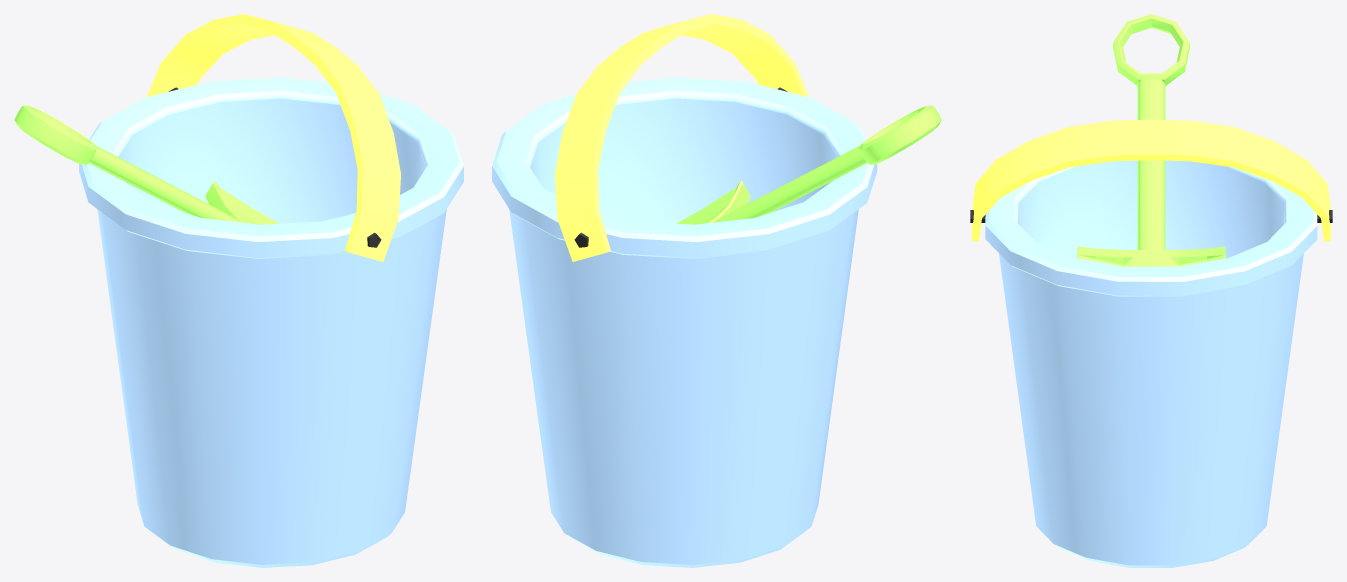
Rendered from BucketNShovel.fbx.
The picture shows the model from 3 angles, left to right: view 1: azimuth 30°, elevation 25°; view 2: azimuth 150°, elevation 25°; view 3: azimuth 270°, elevation 25°; orthographic projection. The views are drawn at different scales.
Visible parts, largest first — view 1: pail, shovel; view 2: pail, shovel; view 3: pail, shovel.
Boxes of the visible parts, x1,y1,x2,y2 form: pail: (79,14,463,567); shovel: (14,105,279,224); pail: (492,14,877,567); shovel: (677,105,941,224); pail: (970,119,1332,567); shovel: (1077,14,1225,266).
Size of the model in its own units: 28.69 by 31.16 by 24.8.
